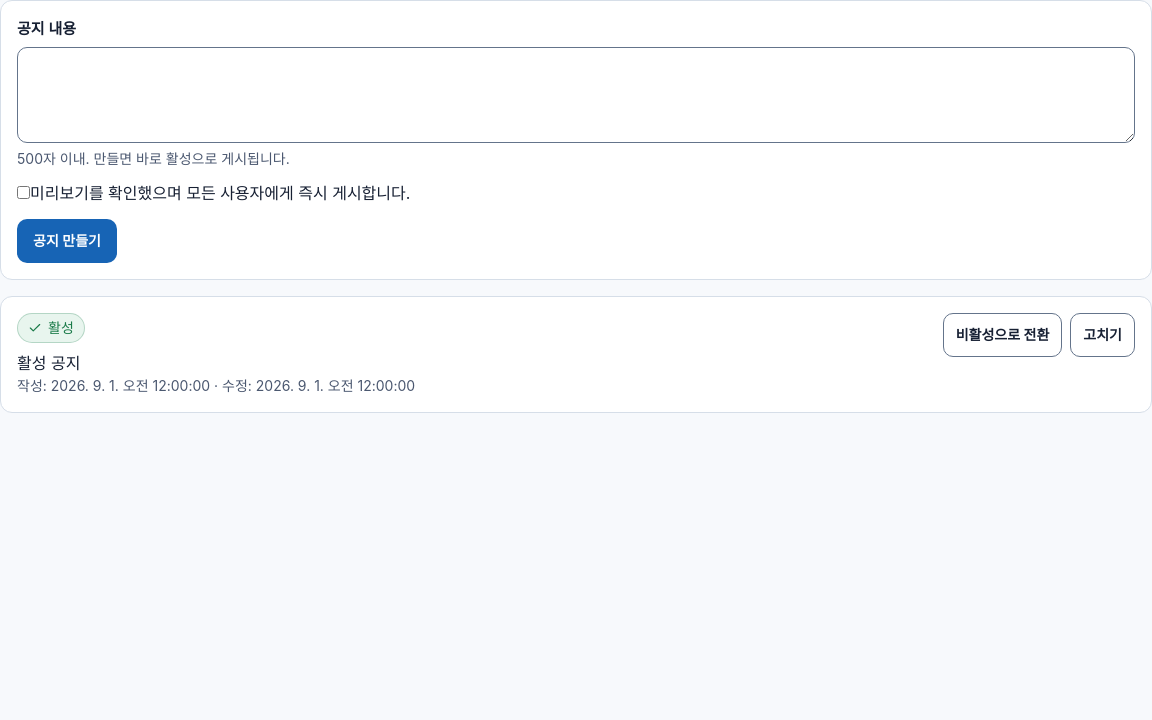
Test: AdminAnnouncementsTab — 공지 (어드민 최소, 계약 2.25.0) › 활성 토글을 누르면 반대 값으로 PATCH하고 배지를 바꾼다
expect the text "활성 공지" is shown: met, box [17,353,80,373]
expect the text "활성" is shown: met, box [17,313,85,343]
Click the button "비활성으로 전환": (1003, 335) [943,313,1062,357]
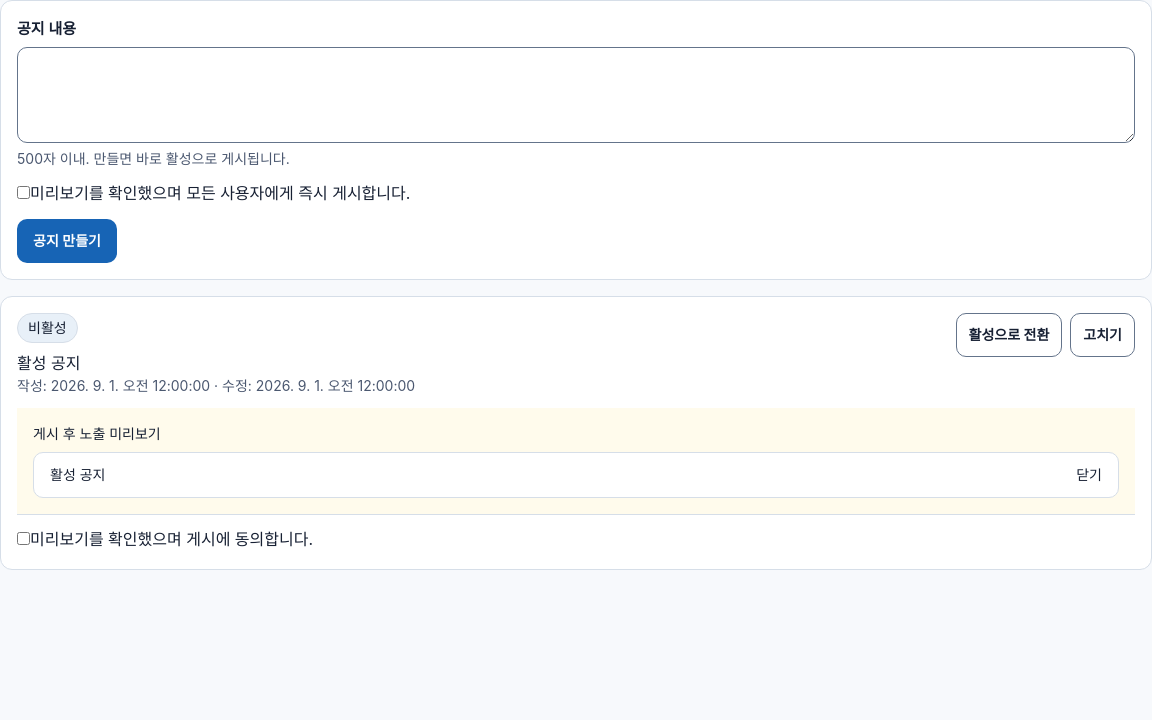
expect the text "비활성" is shown: met, box [17,313,78,343]
